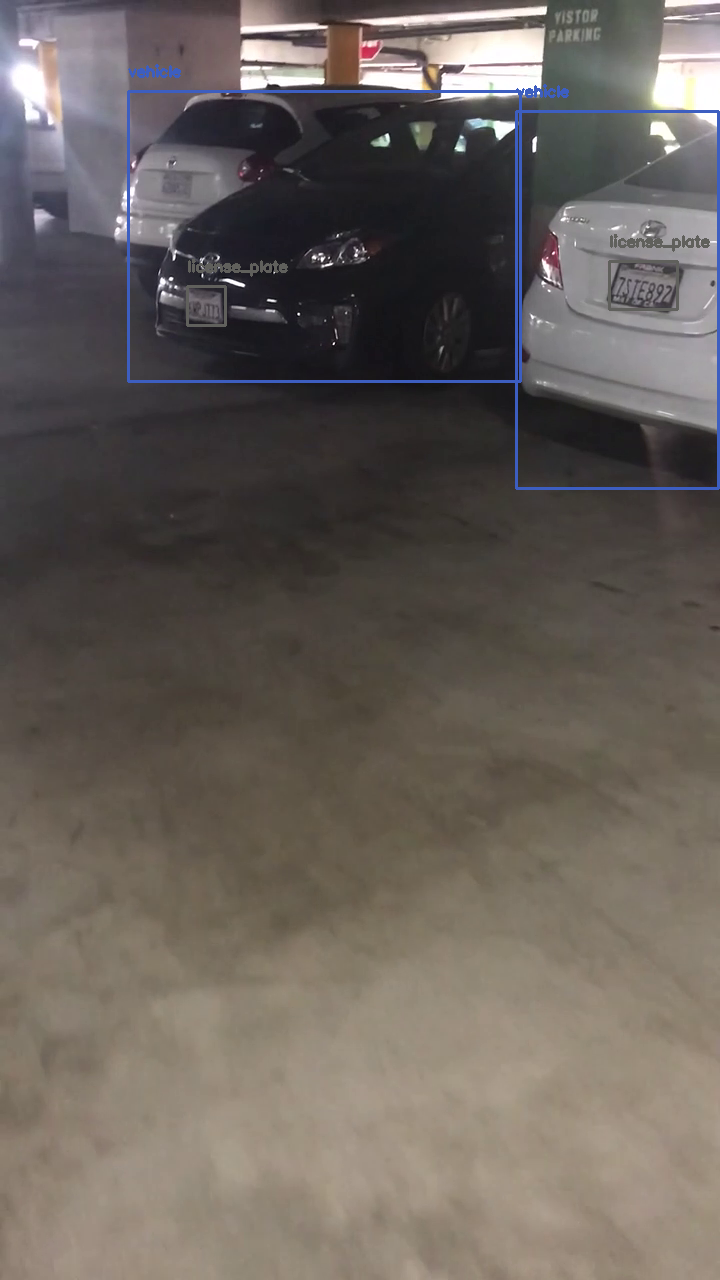license_plate: (609, 261, 677, 309), (187, 286, 225, 325)
vehicle: (128, 91, 520, 381), (516, 111, 718, 488)
